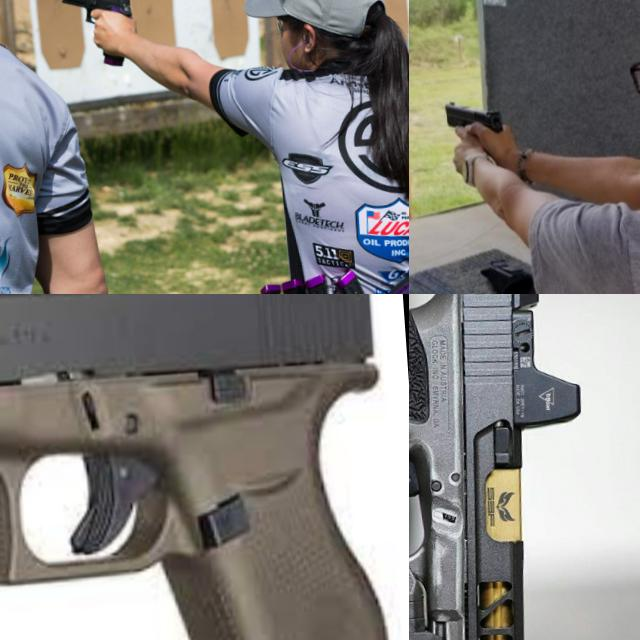handgun: (0, 294, 407, 640), (409, 294, 623, 640), (57, 0, 140, 72), (442, 92, 507, 158)
